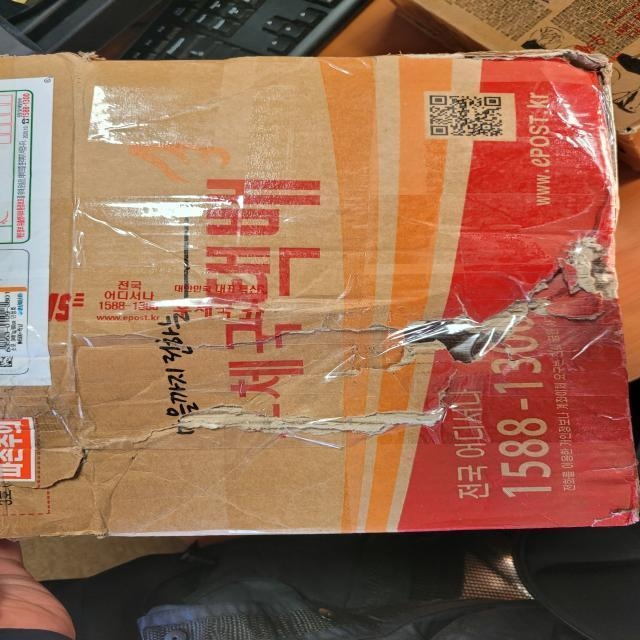damaged: (440, 301, 530, 371)
